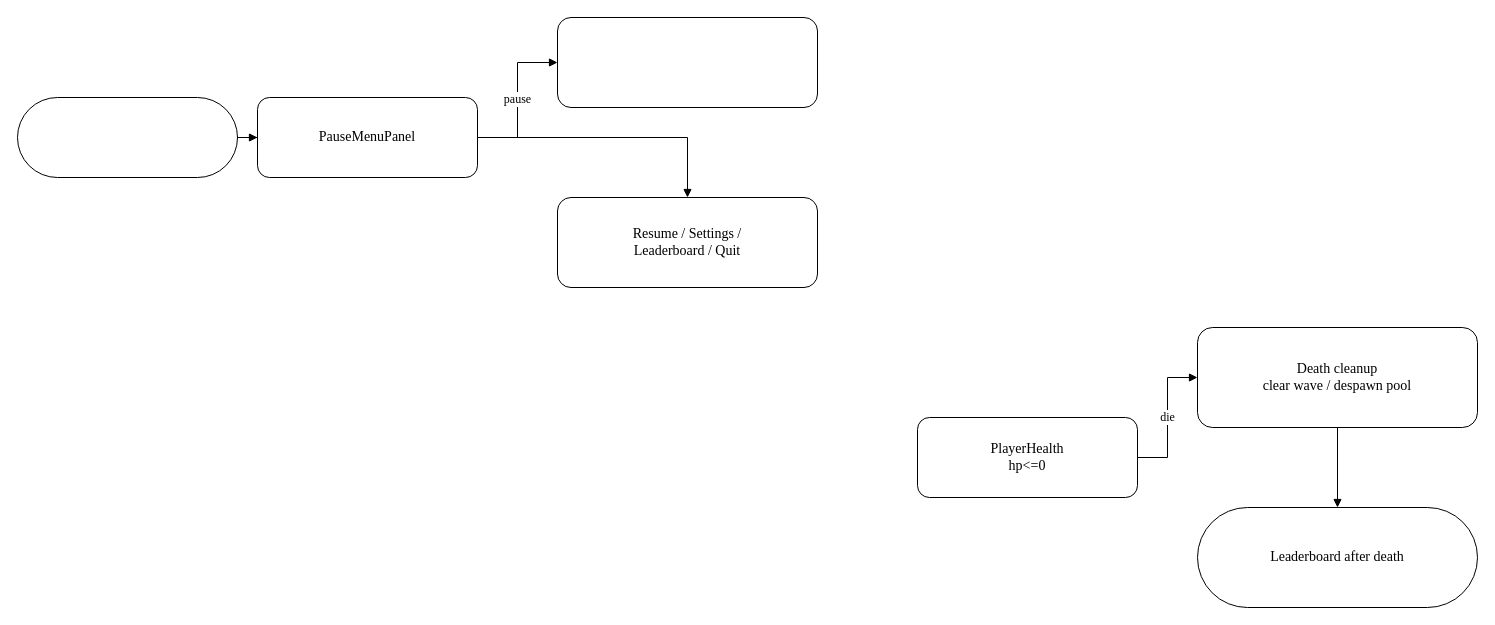
Some shapes in this 1495 by 625 pixel diagram are drawn without their labels. Each missing label, with the box of its shape:
ESC: (16, 96, 238, 178)
Time.timeScale = 0 Player input off: (556, 16, 818, 108)
